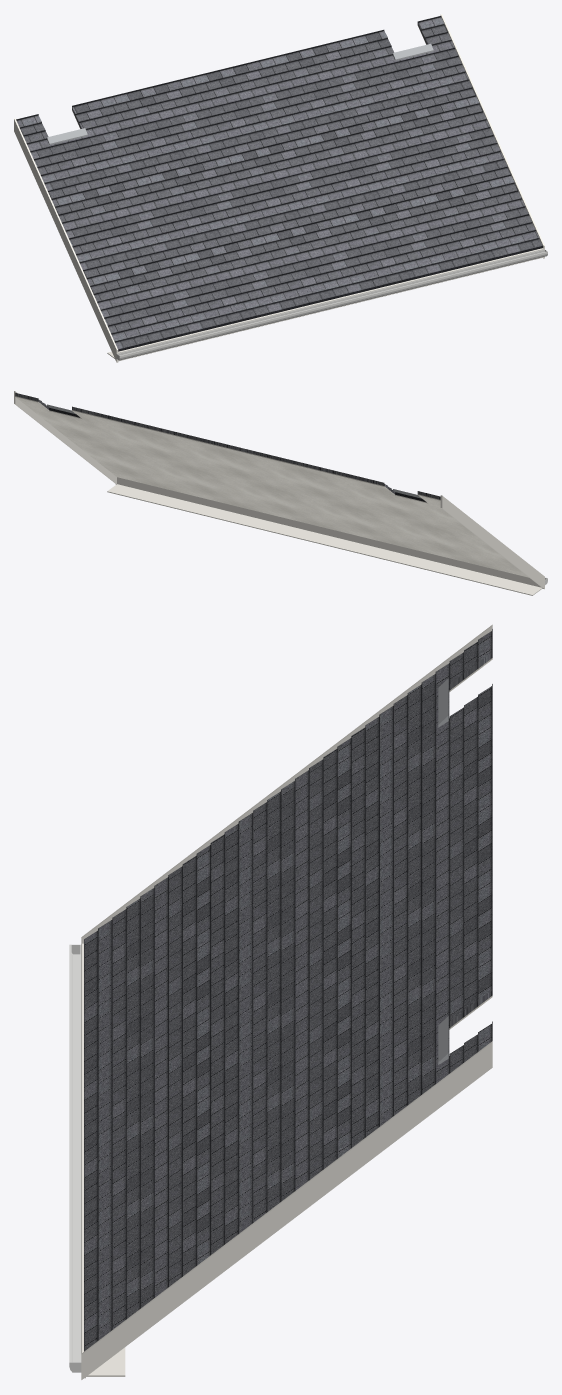
Rendered from roof_slope.glb.
The picture shows the model from 3 angles, top to bottom: view 1: azimuth 30°, elevation 25°; view 2: azimuth 150°, elevation 25°; view 3: azimuth 270°, elevation 25°; orthographic projection. The views are drawn at different scales.
Parts seen in each view (by area): view 1: roof_slope_shingles, roof_slope_trim, roof_slope_gutter, roof_slope_metal; view 2: roof_slope_ceiling, roof_slope_trim, roof_slope_shingles; view 3: roof_slope_shingles, roof_slope_trim, roof_slope_gutter, roof_slope_metal.
Part boxes in pixels (x1,y1,x2,y2): roof_slope_shingles: [16, 16, 542, 351]; roof_slope_trim: [14, 14, 544, 362]; roof_slope_gutter: [116, 249, 547, 360]; roof_slope_metal: [47, 43, 433, 144]; roof_slope_ceiling: [15, 396, 528, 577]; roof_slope_trim: [14, 391, 544, 595]; roof_slope_shingles: [15, 393, 440, 502]; roof_slope_shingles: [84, 629, 492, 1351]; roof_slope_trim: [81, 624, 492, 1379]; roof_slope_gutter: [69, 944, 81, 1372]; roof_slope_metal: [438, 678, 448, 1064].
Bounding box in the file's own units: 10.77 × 4.06 × 4.61.
Materials: 6 (2 with a texture image).
